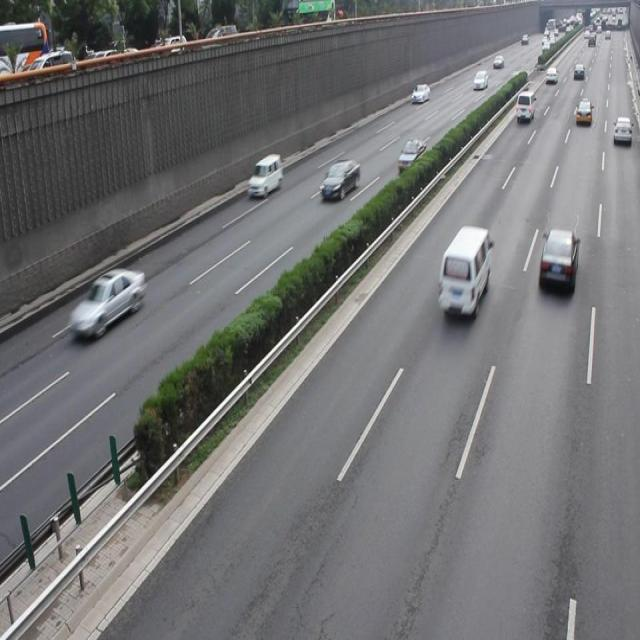car: (71, 266, 145, 336), (537, 228, 577, 295), (320, 157, 360, 200), (248, 154, 282, 198), (397, 137, 426, 172)
truck: (439, 225, 490, 318)
